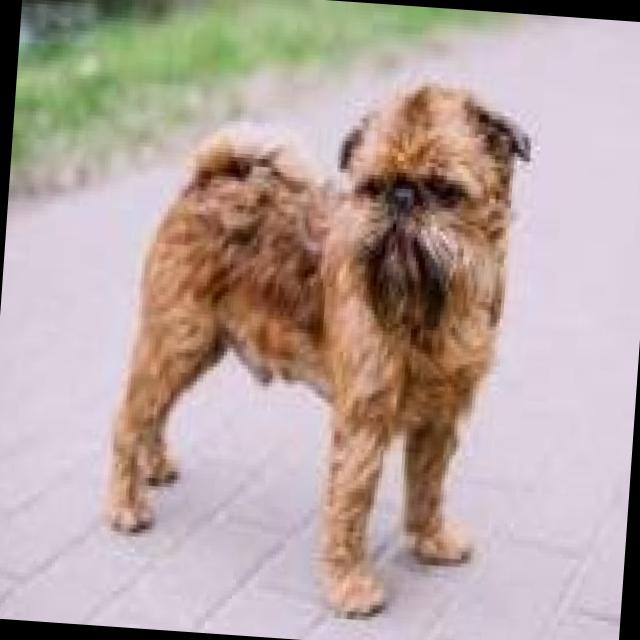Perro: (93, 58, 538, 630)
